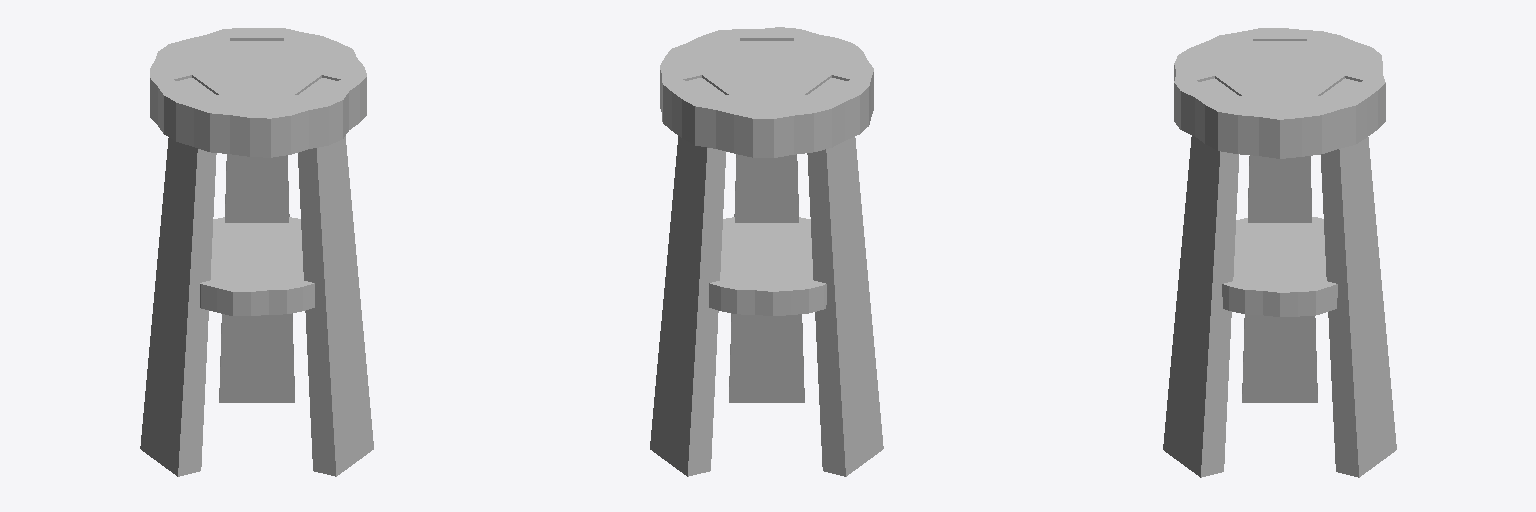
The model's file is tabouret.obj.
3 renders of one model, left to right at view 1: azimuth 30°, elevation 25°; view 2: azimuth 150°, elevation 25°; view 3: azimuth 270°, elevation 25°, orthographic.
Parts seen in each view (by area): view 1: Chair; view 2: Chair; view 3: Chair.
Part boxes in pixels (x1,y1,x2,y2): Chair: (140, 28, 373, 476); Chair: (650, 27, 883, 476); Chair: (1163, 28, 1396, 477).
Bounding box in the file's own units: 41.49 × 75 × 43.37.